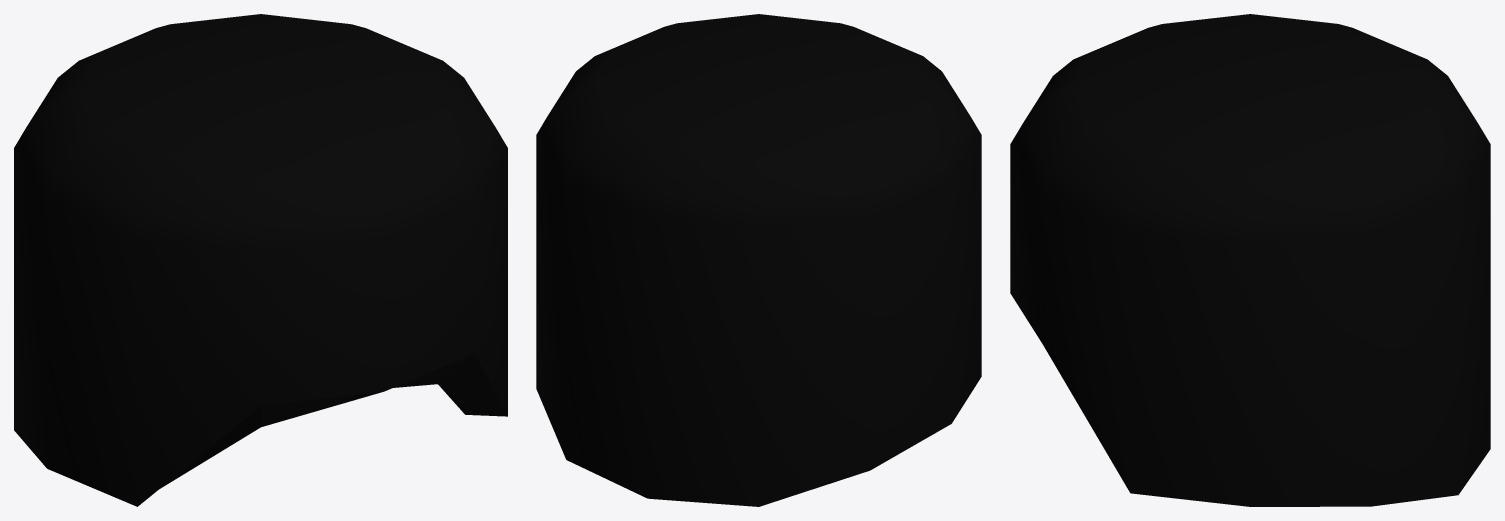
The model's file is Hair_11.fbx.
The picture shows the model from 3 angles, left to right: view 1: azimuth 30°, elevation 25°; view 2: azimuth 150°, elevation 25°; view 3: azimuth 270°, elevation 25°; orthographic projection. The views are drawn at different scales.
Parts seen in each view (by area): view 1: Hair_11; view 2: Hair_11; view 3: Hair_11.
Boxes of the visible parts, bbox=[...] form: Hair_11: bbox=[14, 14, 507, 506]; Hair_11: bbox=[536, 14, 981, 506]; Hair_11: bbox=[1010, 14, 1490, 506].
Bounding box in the file's own units: 110 × 91.11 × 110.
